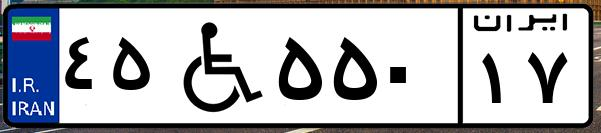0: (385, 28, 445, 110)
1: (475, 38, 525, 113)
4: (57, 26, 110, 100)
5: (270, 28, 330, 110), (330, 28, 385, 110), (110, 28, 158, 98)
7: (525, 38, 570, 115)
ژ (معلولین و جانبازان): (158, 12, 270, 120)
